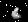person: (12, 7, 21, 21)
